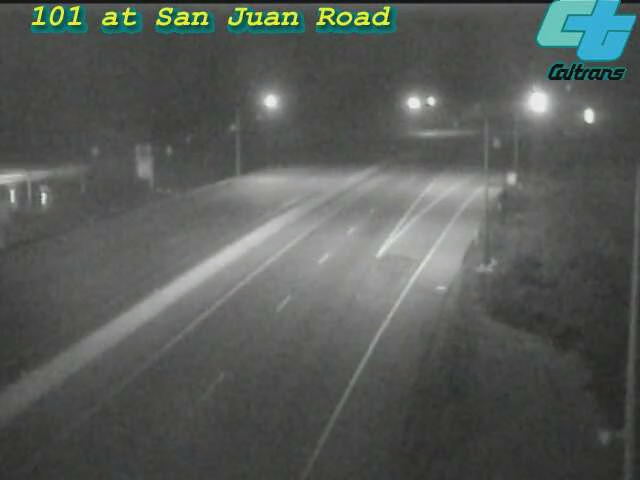vehicle: (562, 91, 612, 141), (510, 80, 560, 130)
